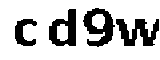9: (83, 7, 114, 51)
c: (14, 17, 38, 47)
d: (45, 5, 79, 52)
w: (116, 15, 160, 52)
